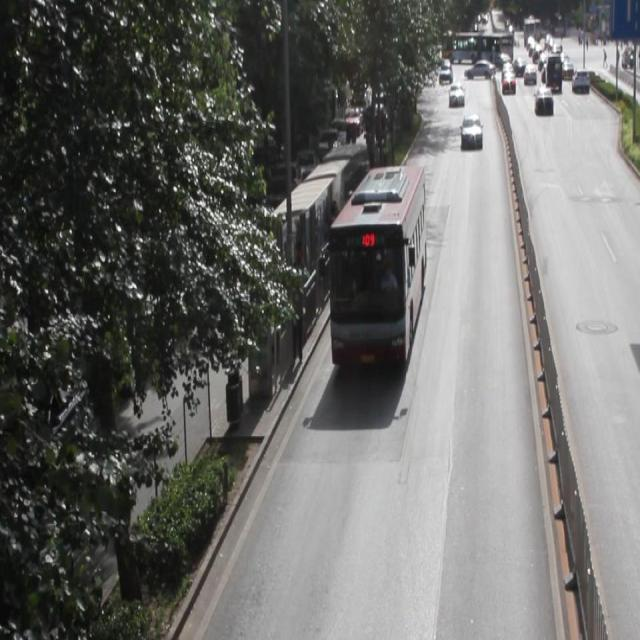car: (459, 111, 482, 143)
van: (328, 162, 424, 364)
